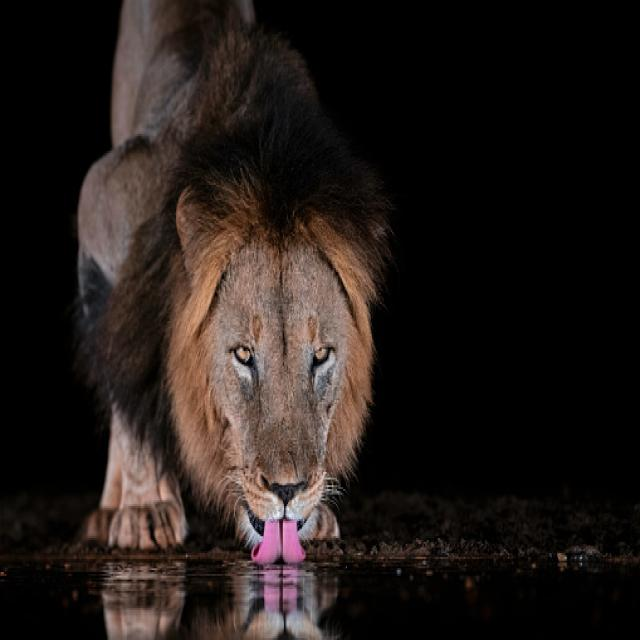Lion: (75, 4, 387, 560)
